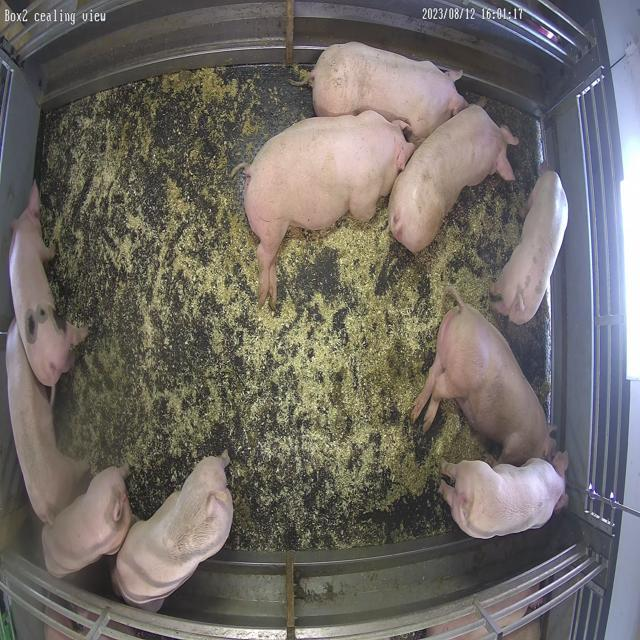Dirt: (116, 65, 313, 226), (488, 100, 543, 208)
Pig: (234, 110, 416, 305), (412, 291, 554, 466), (389, 104, 519, 252), (113, 452, 233, 606), (5, 321, 90, 524), (309, 41, 469, 144), (9, 184, 87, 388), (491, 171, 569, 324), (440, 459, 567, 540), (41, 468, 133, 578)
